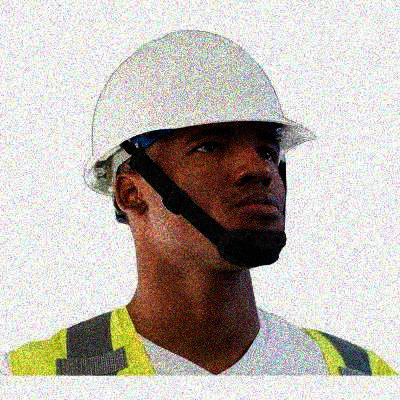helmet: (84, 31, 316, 269)
